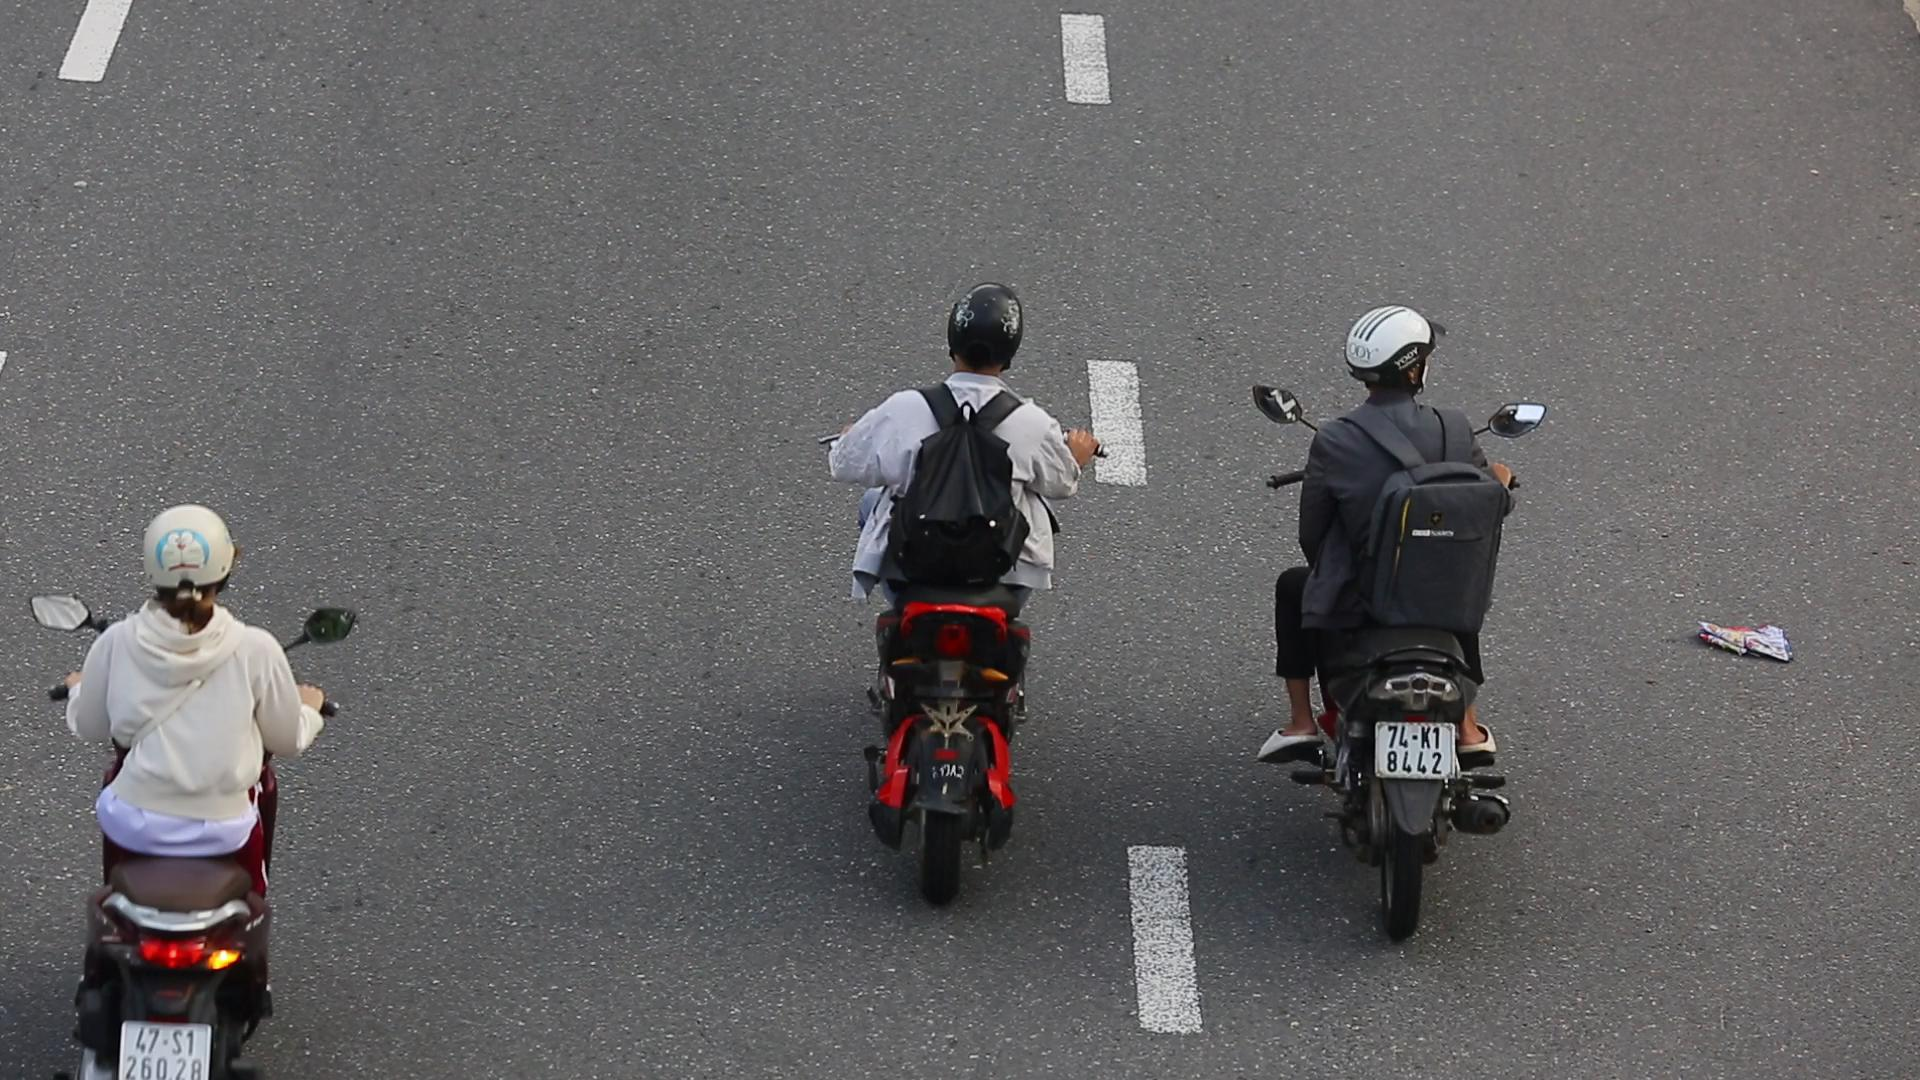motobike: (1250, 295, 1560, 949), (802, 274, 1118, 906)
